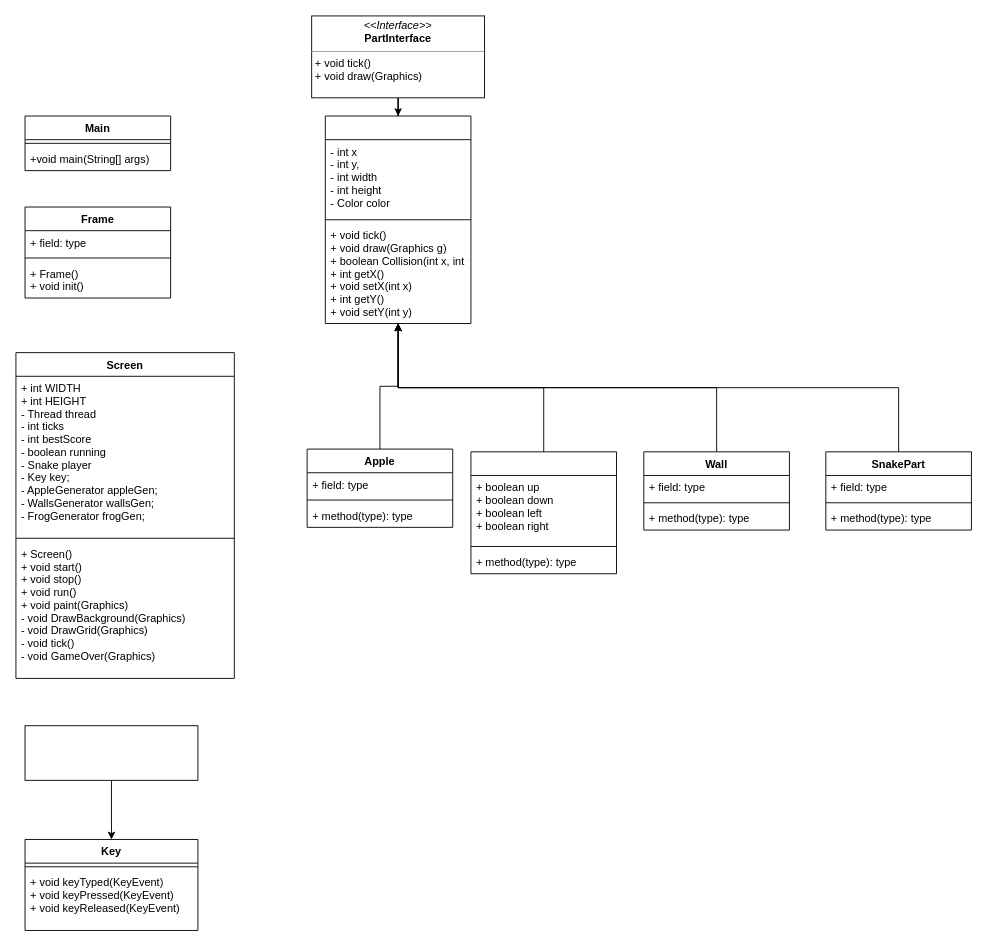
The diagram is 987 pixels wide and 949 high, and some of its shapes have lost their labels. The box of each missing label's shape, as (x1, y1, x2, y2) in pixels:
<<Interface>> KeyListener: (24, 725, 198, 780)
Frog: (470, 451, 617, 574)
Part: (324, 115, 471, 324)
